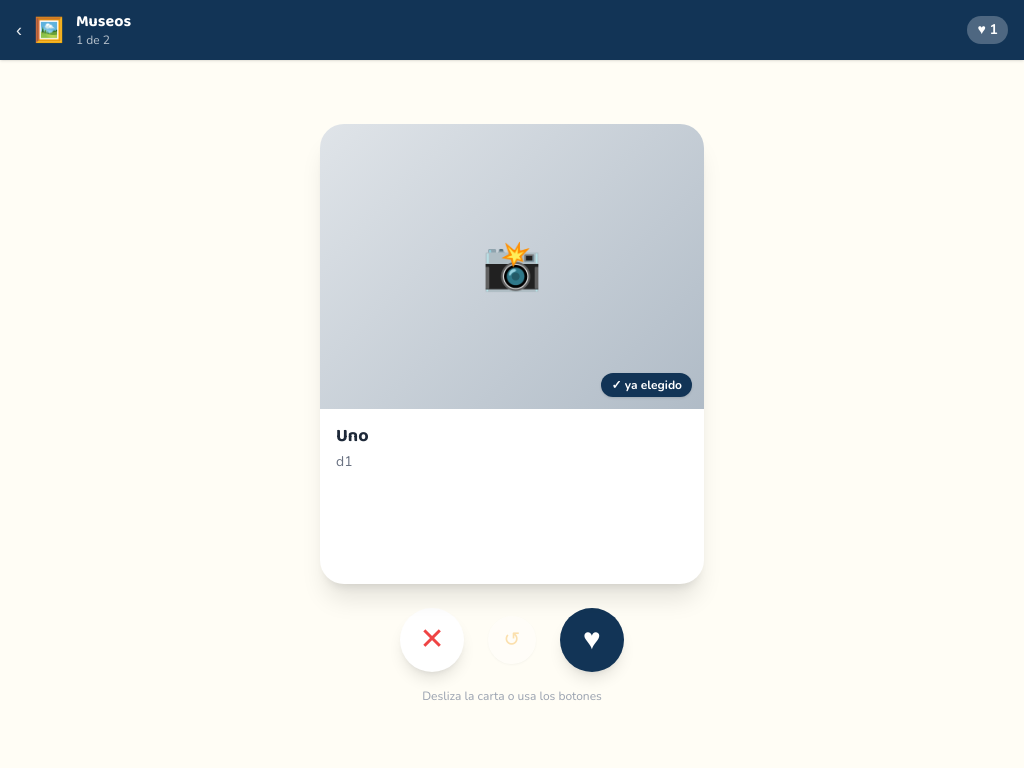
Scenario: SwipeDeck › al terminar muestra resumen con los elegidos (de selections)
The image size is (1024, 768).
Step 1. Click the button named "Me gusta" → (592, 640), box [560,608,624,672]
Wait 300 ms
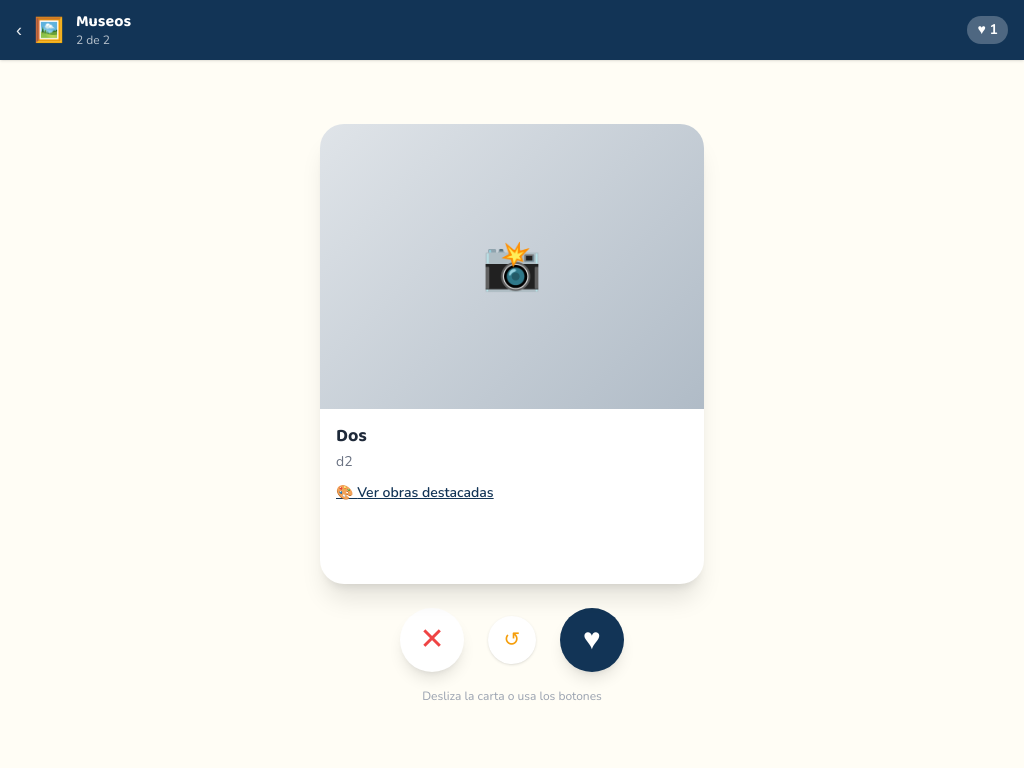
Step 2. Click the button named "Pasar" → (432, 640), box [400,608,464,672]
Wait 300 ms
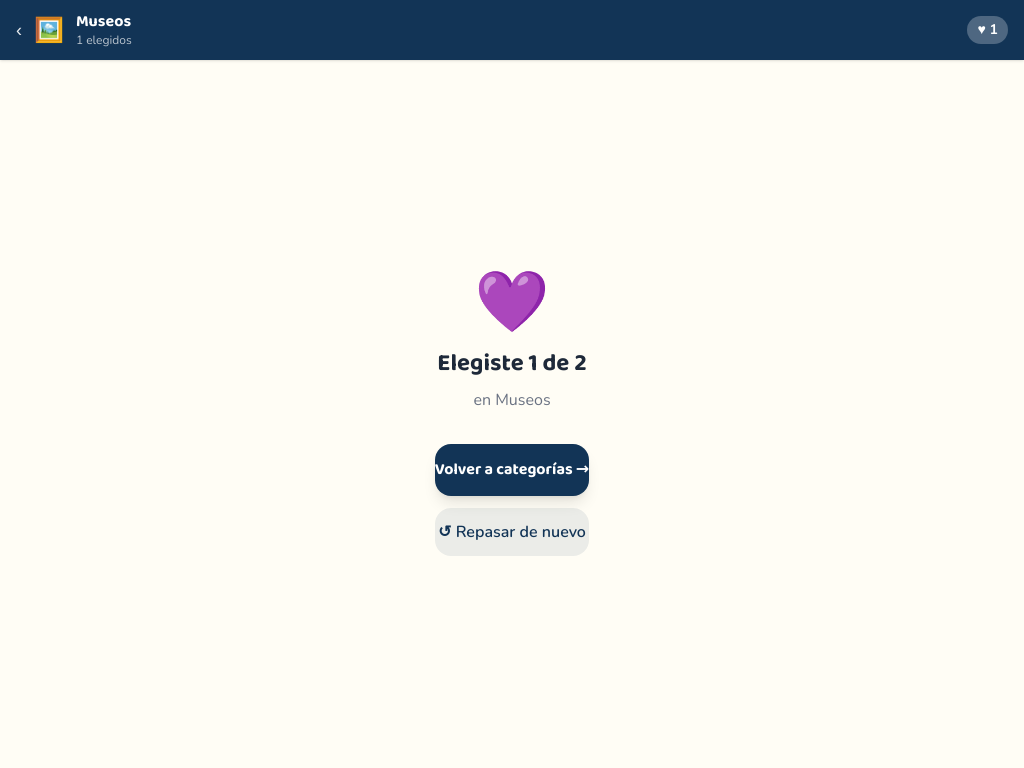
Expected: the heading "Elegiste 1 de 2" is shown, [435,348,589,380]
